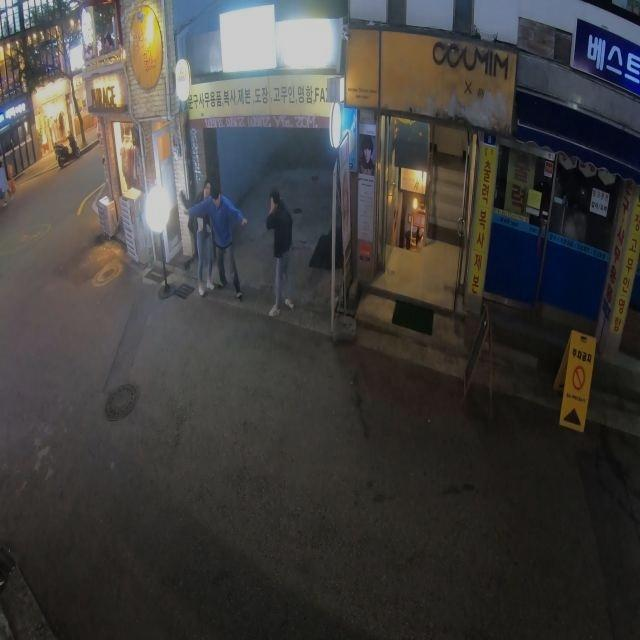non-fight: (182, 186, 248, 296), (263, 189, 296, 317)
